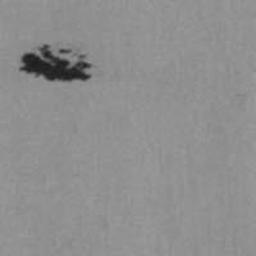Inclusion: (18, 42, 96, 86)
